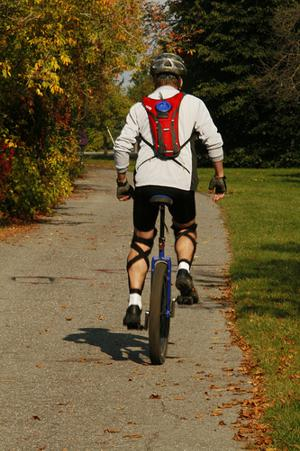person: (114, 49, 226, 329)
